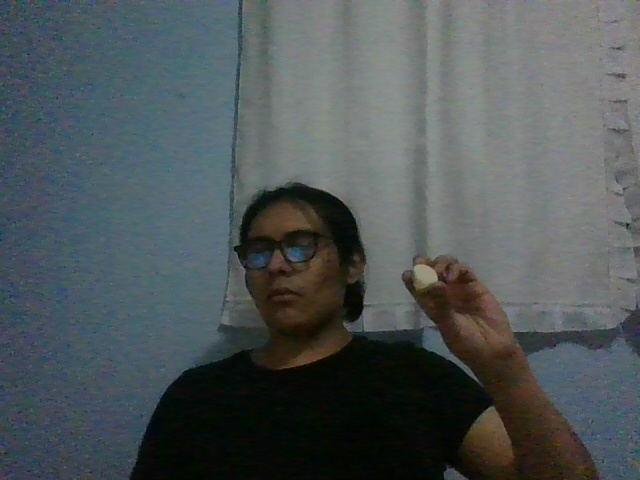goma: (412, 264, 438, 293)
